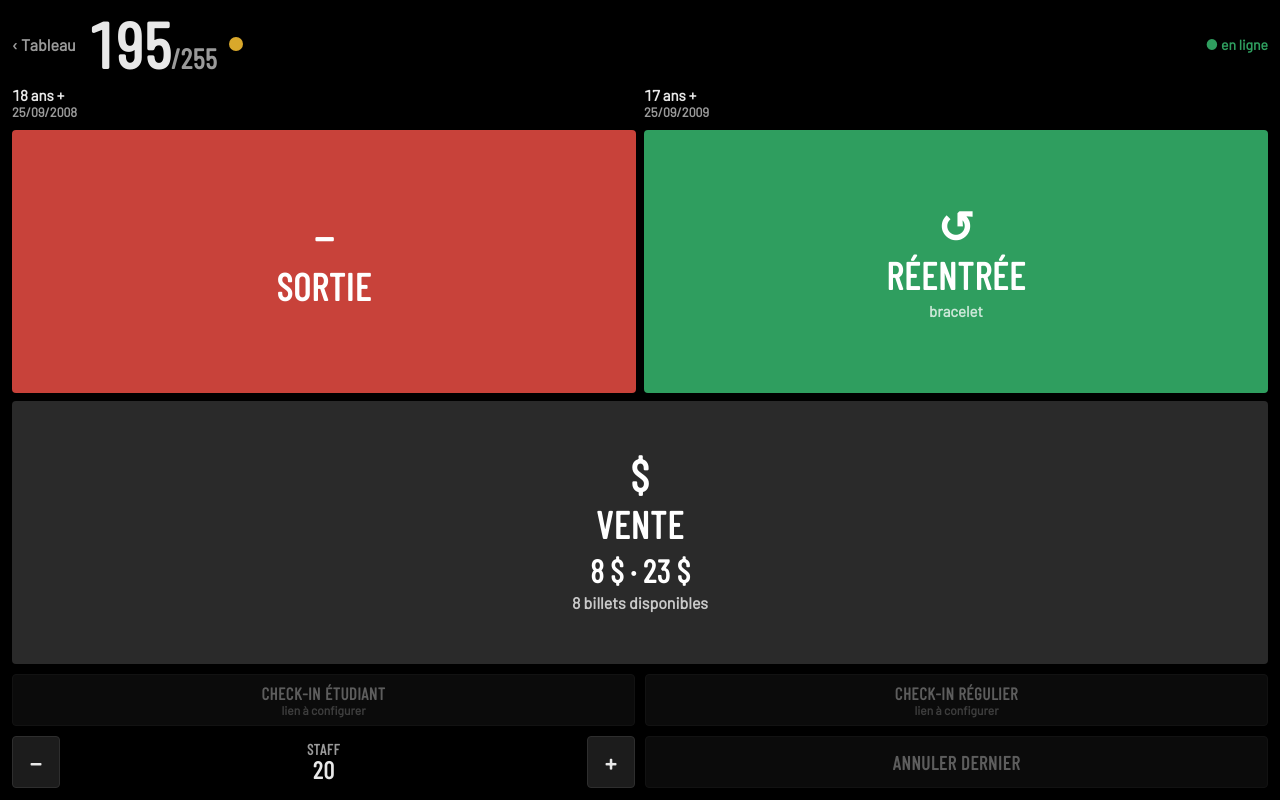
Test: Écran Porte (scénario 23:00, 195 personnes, prix automatiques 8 $ / 23 $) › sortie puis réentrée
What coordinates should you click on to do the following:
click the button "− SORTIE"
I would click on:
 (324, 262)
Its box is [12,130,636,393].
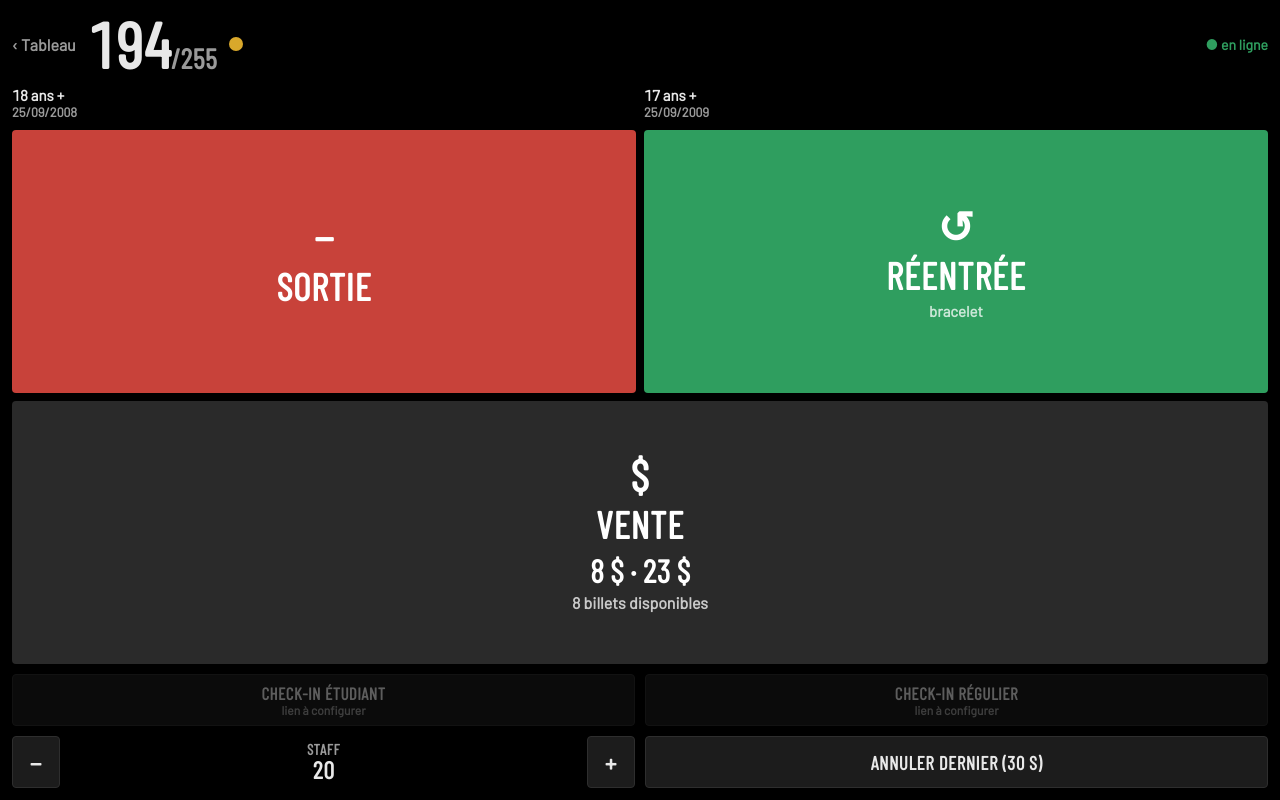
Check: the text "194" is shown, box [88,12,171,76]
What coordinates should you click on to do the following:
click the button "↺ RÉENTRÉE bracelet"
I would click on:
 (956, 262)
Its box is [644,130,1268,393].
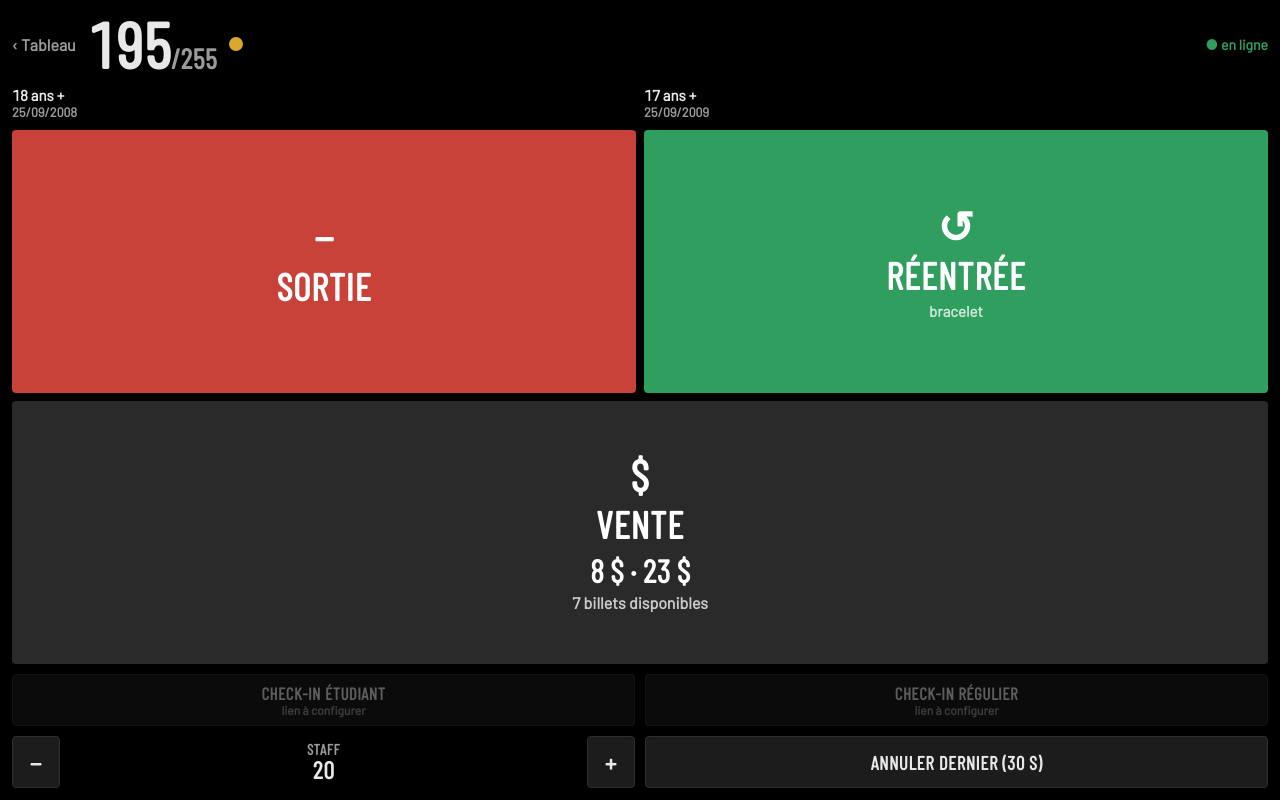
Check: the text "195" is shown, box [88,12,171,76]
